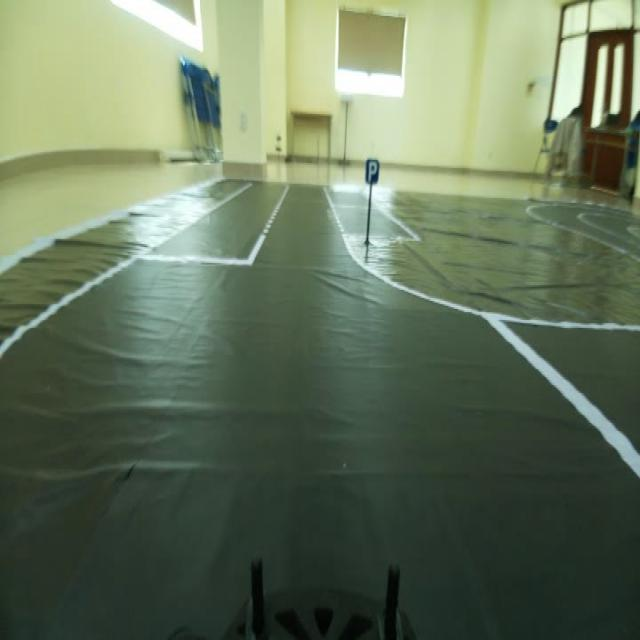parking: (362, 150, 384, 195)
